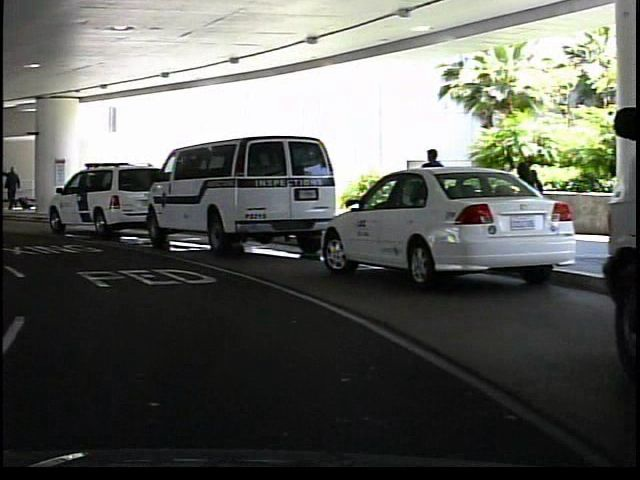person: (507, 157, 544, 248), (414, 143, 447, 244)
